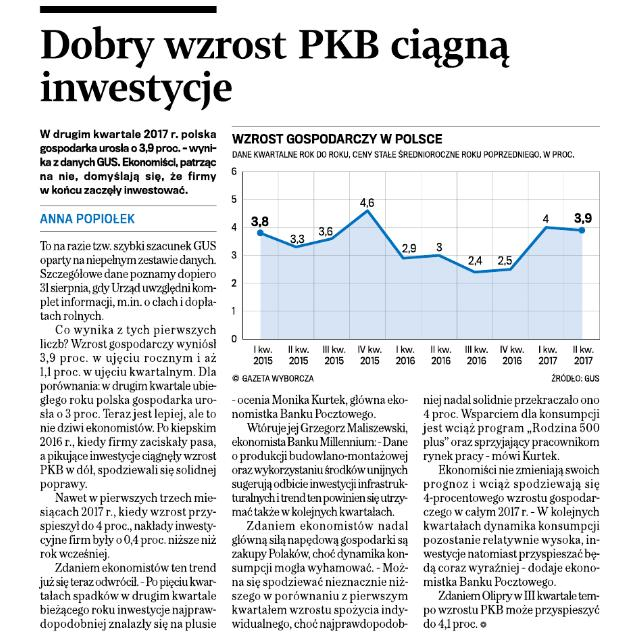author: (36, 208, 138, 228)
body: (36, 236, 224, 634), (418, 388, 604, 632), (228, 389, 412, 635)
caption: (228, 128, 578, 162)
image: (225, 162, 602, 370)
lead: (38, 123, 222, 201)
title: (37, 20, 536, 116)
